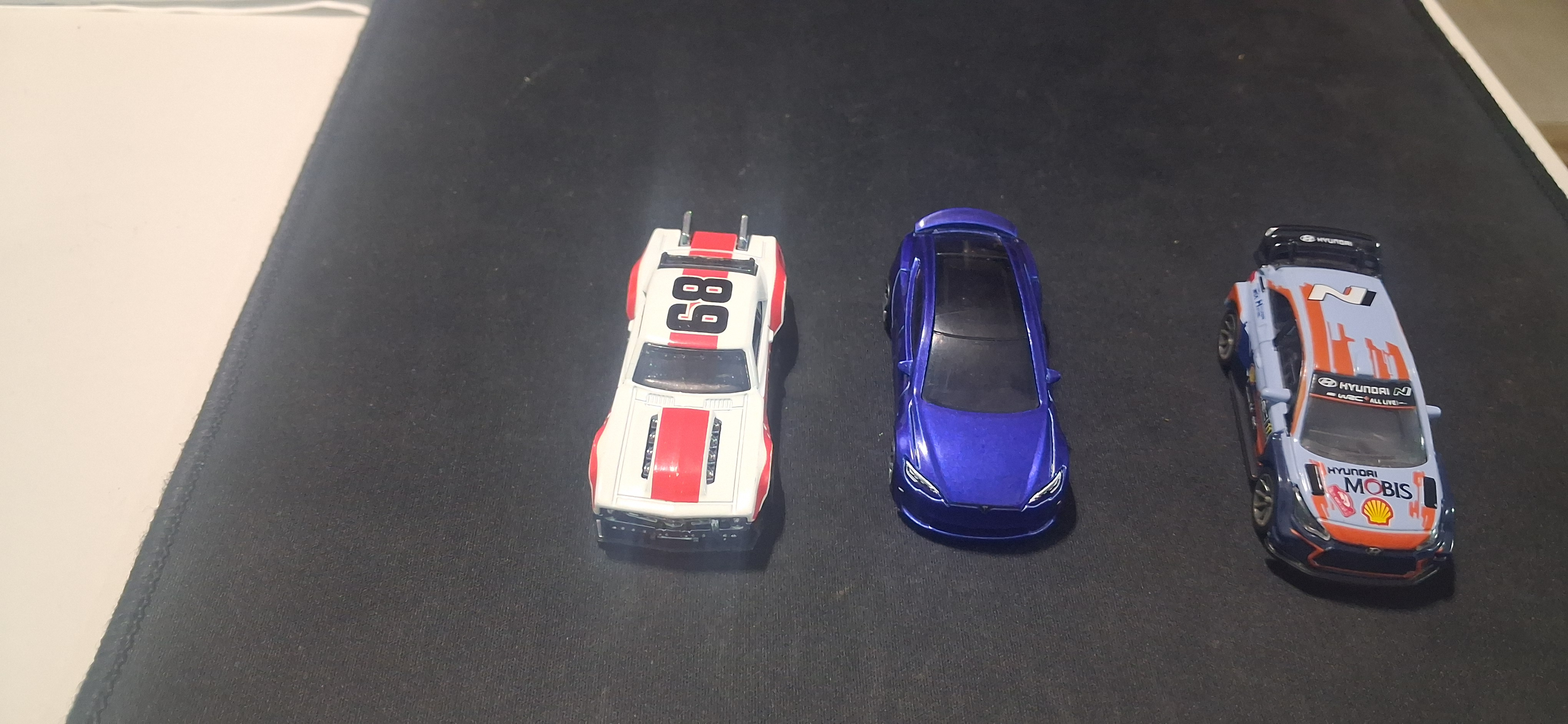Camaro: (576, 185, 829, 660)
Hyundai_I20_WRC: (1180, 195, 1483, 634)
Tesla_Model_S_Plaid: (858, 173, 1099, 630)
